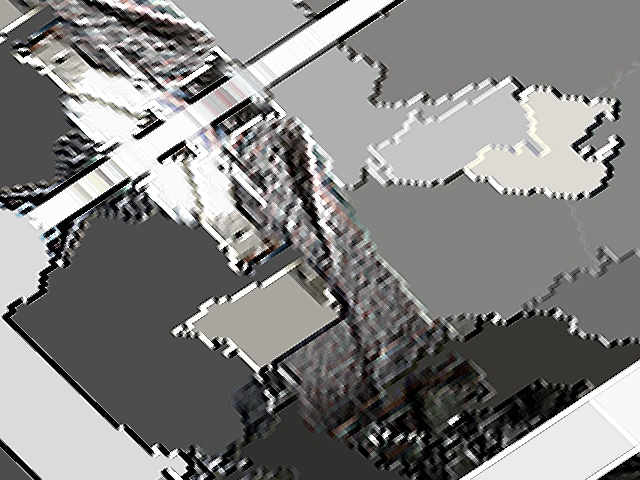one: (357, 135, 405, 177)
